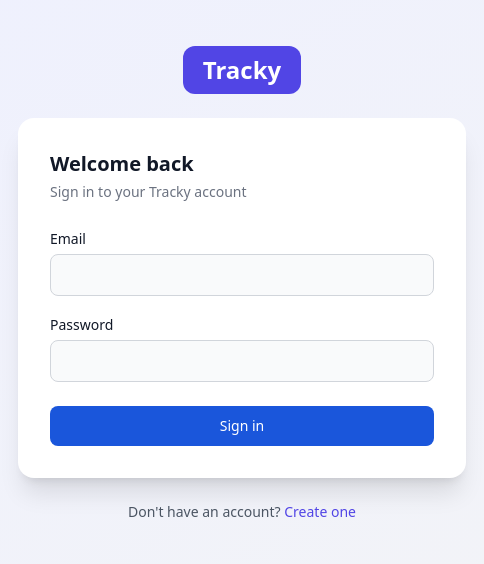
Authentication › shows a validation error on bad login
Type "nobody@example.com" into the field with id "email".
click(242, 275); type("nobody@example.com")  # box [50,254,434,296]
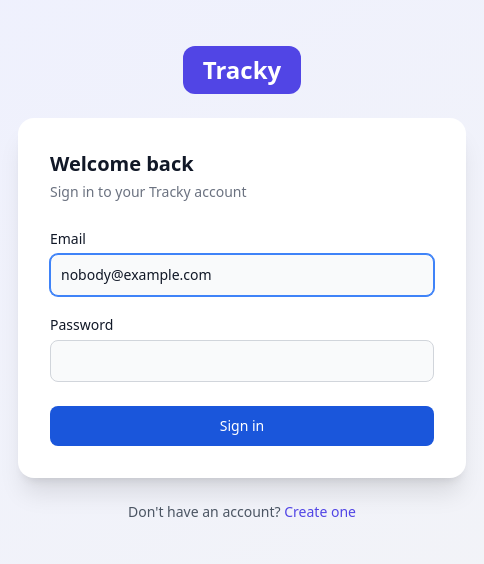
Type "wrongpassword" into the password field labelled "Password".
click(242, 361); type("wrongpassword")  # box [50,340,434,382]
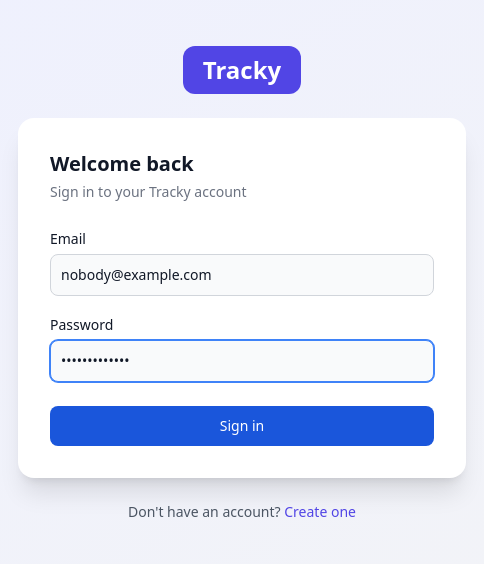
Click the submit button.
click(242, 426)  # box [50,406,434,446]
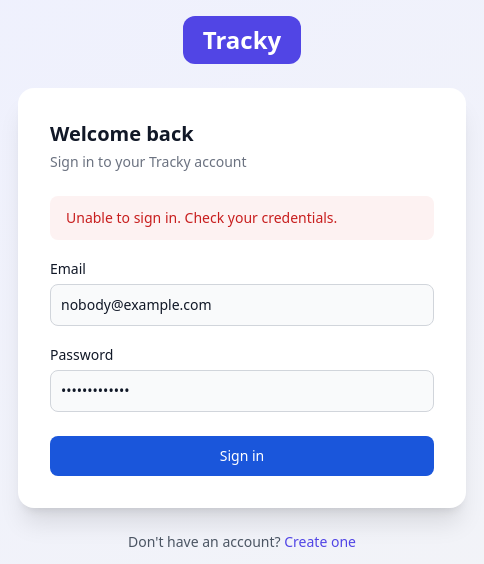
Expected: the text "Unable to sign in. Check your credentials." is shown, [50,196,434,240]
